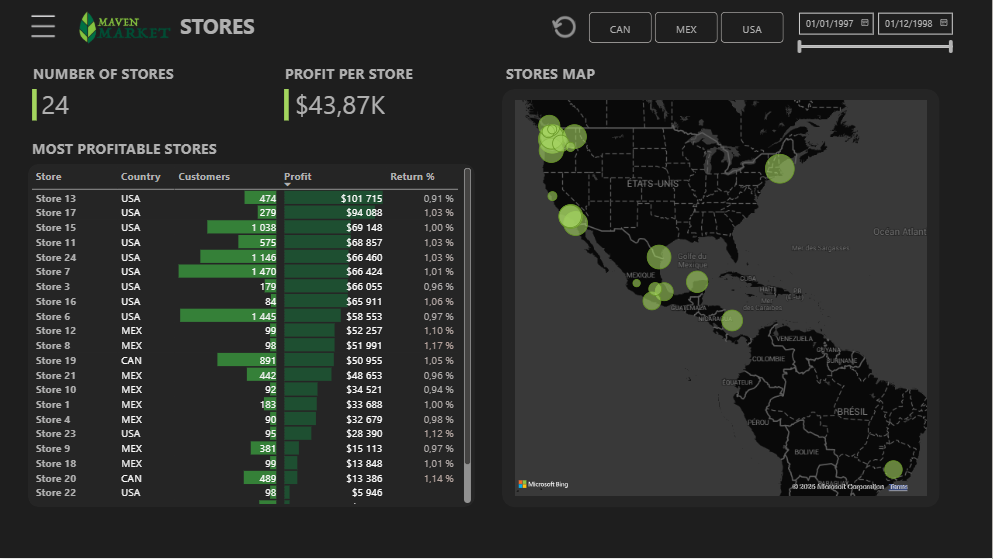

The dashboard page shown, as its layout file describes it:
{"tool":"powerbi","page":{"name":"STORES","canvas":[1280,720],"ordinal":2},"visuals":[{"type":"image","box":[95.3,5.3,133.2,62.6],"z":0},{"type":"advancedSlicerVisual","fields":{"Values":["Stores.store_country"]},"box":[755.4,11.4,262.9,50.9],"z":0,"group":"g1"},{"type":"shape","box":[38.6,115.6,13.9,40.6],"z":0,"group":"g2"},{"type":"slicer","fields":{"Values":["Calendar.Start of Month"]},"box":[1018,8,223.6,67],"z":1000,"group":"g1"},{"type":"textbox","box":[648,78,176,38],"z":1000},{"type":"shape","box":[363.2,115.6,13.9,40.6],"z":1000,"group":"g2"},{"type":"actionButton","box":[709,16.7,38.6,39.5],"z":2000,"group":"g1"},{"type":"textbox","box":[39.2,78,242,35.7],"z":2000,"group":"g2"},{"type":"textbox","box":[37,175,319,38],"z":2000},{"type":"group","id":"g1","title":"Filters","box":[709,8,533,67],"z":3000},{"type":"textbox","box":[363.6,78,242,35.7],"z":3000,"group":"g2"},{"type":"textbox","box":[228,12,186,50],"z":4000},{"type":"group","id":"g2","title":"KPI","box":[38.6,78,567,78.2],"z":5000},{"type":"cardVisual","fields":{"Data":["Measure Table.Total stores","Measure Table.Profit per store"]},"box":[37,88,655,87],"z":6000},{"type":"map","fields":{"Category":["Stores.store_city"],"Size":["Measure Table.Total Profit"]},"box":[660,125,541,520],"z":7000},{"type":"pivotTable","fields":{"Rows":["Stores.store_name"],"Values":["Min(Stores.store_country)","Measure Table.Total Customers","Measure Table.Total Profit","Measure Table.Return Rate"]},"box":[37,213,576,442],"z":8000},{"type":"shape","box":[37,213,576,442],"z":9000},{"type":"shape","box":[648,116,564,539],"z":10000},{"type":"actionButton","title":"Show Menu","box":[37,16,42,39],"z":13000}]}

Visuals, with their boxes in screenshot pixels (x1, y1, x2, y2), scaled from the page's 1280x720 canvas onto the 994x559 screenshot:
image: {"x1": 74, "y1": 4, "x2": 177, "y2": 53}
advancedSlicerVisual - Stores.store_country: {"x1": 587, "y1": 9, "x2": 791, "y2": 48}
shape: {"x1": 30, "y1": 90, "x2": 41, "y2": 121}
slicer - Calendar.Start of Month: {"x1": 791, "y1": 6, "x2": 964, "y2": 58}
textbox: {"x1": 503, "y1": 61, "x2": 640, "y2": 90}
shape: {"x1": 282, "y1": 90, "x2": 293, "y2": 121}
actionButton: {"x1": 551, "y1": 13, "x2": 581, "y2": 44}
textbox: {"x1": 30, "y1": 61, "x2": 218, "y2": 88}
textbox: {"x1": 29, "y1": 136, "x2": 276, "y2": 165}
"Filters" group: {"x1": 551, "y1": 6, "x2": 964, "y2": 58}
textbox: {"x1": 282, "y1": 61, "x2": 470, "y2": 88}
textbox: {"x1": 177, "y1": 9, "x2": 321, "y2": 48}
"KPI" group: {"x1": 30, "y1": 61, "x2": 470, "y2": 121}
cardVisual - Measure Table.Total stores x Measure Table.Profit per store: {"x1": 29, "y1": 68, "x2": 537, "y2": 136}
map - Stores.store_city x Measure Table.Total Profit: {"x1": 513, "y1": 97, "x2": 933, "y2": 501}
pivotTable - Stores.store_name x Min(Stores.store_country): {"x1": 29, "y1": 165, "x2": 476, "y2": 509}
shape: {"x1": 29, "y1": 165, "x2": 476, "y2": 509}
shape: {"x1": 503, "y1": 90, "x2": 941, "y2": 509}
"Show Menu" actionButton: {"x1": 29, "y1": 12, "x2": 61, "y2": 43}
